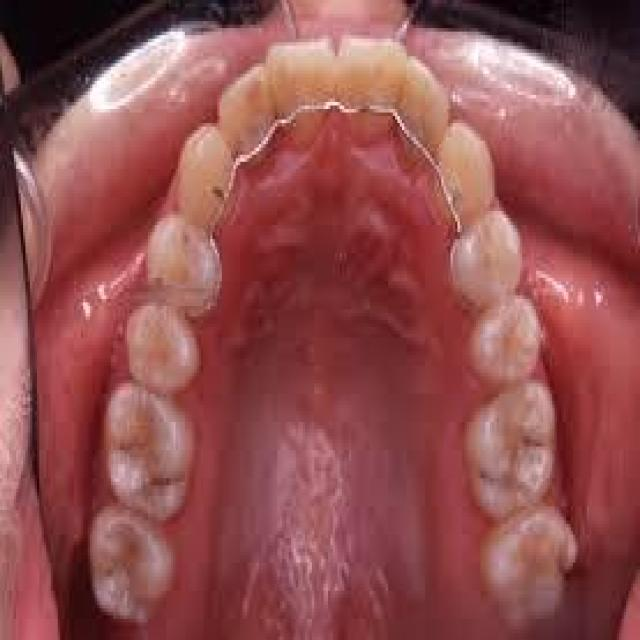Caries: (213, 186, 224, 200), (152, 478, 171, 485)
Tooth: (462, 380, 557, 517), (106, 383, 194, 520), (481, 506, 578, 626), (90, 503, 178, 622), (146, 211, 222, 316), (266, 39, 337, 148), (337, 39, 407, 144), (430, 120, 497, 229), (451, 211, 522, 313), (127, 302, 201, 394), (469, 292, 543, 383), (176, 123, 236, 229), (397, 53, 448, 172), (217, 63, 277, 162)
